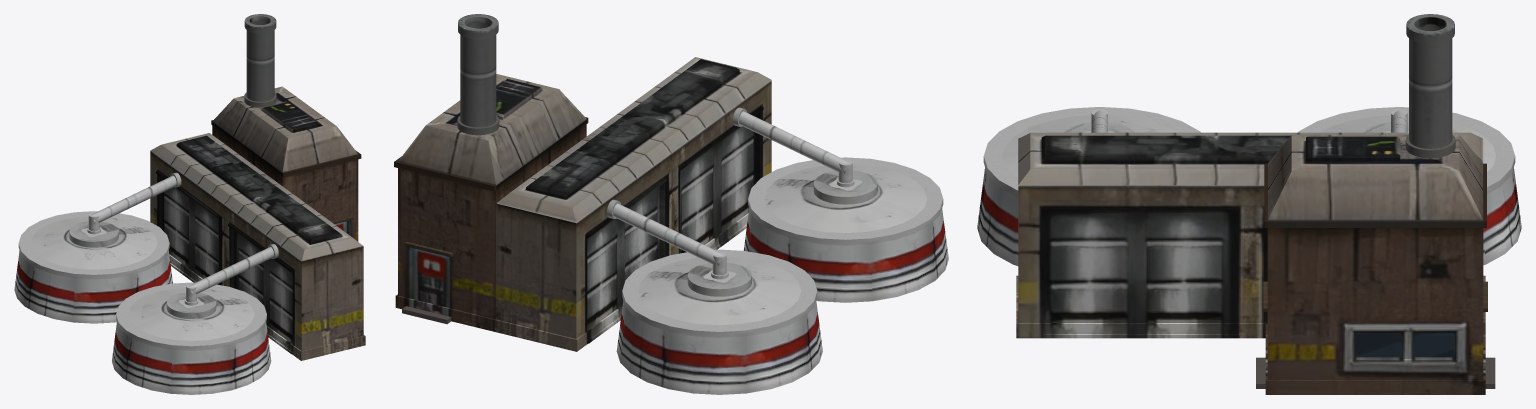
Rendered from purificationplant_cad.glb.
The picture shows the model from 3 angles, left to right: view 1: azimuth 30°, elevation 25°; view 2: azimuth 150°, elevation 25°; view 3: azimuth 270°, elevation 25°; orthographic projection. The views are drawn at different scales.
Visible parts, largest first — view 1: PurificationPlant; view 2: PurificationPlant; view 3: PurificationPlant.
Part boxes in pixels (x1,y1,x2,y2): PurificationPlant: (14, 14, 365, 394); PurificationPlant: (394, 14, 948, 394); PurificationPlant: (977, 14, 1521, 394).
Size of the model in its own units: 14.94 by 10.68 by 15.68.
Materials: 1 (1 with a texture image).
